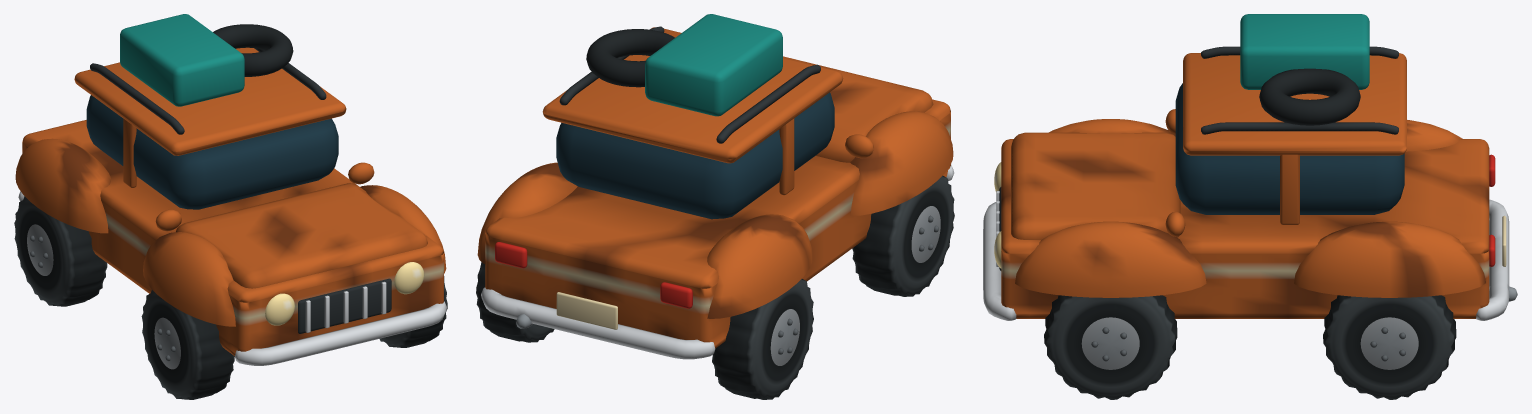
Rendered from rotten.glb.
The picture shows the model from 3 angles, left to right: view 1: azimuth 30°, elevation 25°; view 2: azimuth 150°, elevation 25°; view 3: azimuth 270°, elevation 25°; orthographic projection. The views are drawn at different scales.
Visible parts, largest first — view 1: rottekrop, rottehjelm, rottekabine, rottetag, tagkasse, rotteskærm-1-1.4, rotteskærm-11.4, dæk_bag_venstre, dæk_for_venstre, rotteforkofanger, rottegrill, tagreservehjul (+11 smaller); view 2: rottekrop, rottekabine, rottetag, tagkasse, rotteskærm-1-1.4, rotteskærm-11.4, dæk_for_venstre, dæk_bag_venstre, rottehjelm, rottebagkofanger, tagreservehjul, rotteskærm1-1.4 (+10 smaller); view 3: rottekrop, rottehjelm, rottetag, rottekabine, rotteskærm1-1.4, rotteskærm11.4, dæk_for_hoejre, dæk_bag_hoejre, tagkasse, tagreservehjul, fælg_bag_hoejre, fælg_for_hoejre (+7 smaller).
Boxes of the visible parts, x1,y1,x2,y2 form: rottekrop: (22, 120, 443, 355); rottehjelm: (176, 183, 427, 288); rottekabine: (86, 95, 338, 209); rottetag: (74, 47, 346, 155); tagkasse: (120, 14, 244, 106); rotteskærm-1-1.4: (15, 138, 110, 233); rotteskærm-11.4: (143, 232, 235, 326); dæk_bag_venstre: (14, 196, 107, 306); dæk_for_venstre: (141, 290, 234, 399); rotteforkofanger: (235, 301, 446, 365); rottegrill: (298, 278, 391, 333); tagreservehjul: (213, 24, 293, 76); rottekrop: (485, 99, 950, 348); rottekabine: (556, 92, 834, 219); rottetag: (542, 27, 843, 163); tagkasse: (645, 14, 782, 116); rotteskærm-1-1.4: (707, 214, 812, 318); rotteskærm-11.4: (850, 111, 953, 215); dæk_for_venstre: (852, 175, 954, 296); dæk_bag_venstre: (712, 279, 813, 399); rottehjelm: (783, 56, 933, 162); rottebagkofanger: (481, 287, 715, 359); tagreservehjul: (586, 29, 674, 87); rotteskærm1-1.4: (477, 162, 577, 264); rottekrop: (1001, 139, 1489, 318); rottehjelm: (1011, 132, 1180, 239); rottetag: (1183, 53, 1406, 155); rottekabine: (1175, 83, 1404, 214); rotteskærm1-1.4: (1294, 221, 1485, 297); rotteskærm11.4: (1015, 221, 1206, 297); dæk_for_hoejre: (1044, 295, 1177, 399); dæk_bag_hoejre: (1323, 295, 1456, 399); tagkasse: (1240, 14, 1369, 89); tagreservehjul: (1259, 68, 1360, 125); fælg_bag_hoejre: (1360, 317, 1418, 369); fælg_for_hoejre: (1081, 317, 1139, 369).
Size of the model in its own units: 3.32 by 3.25 by 5.37.
